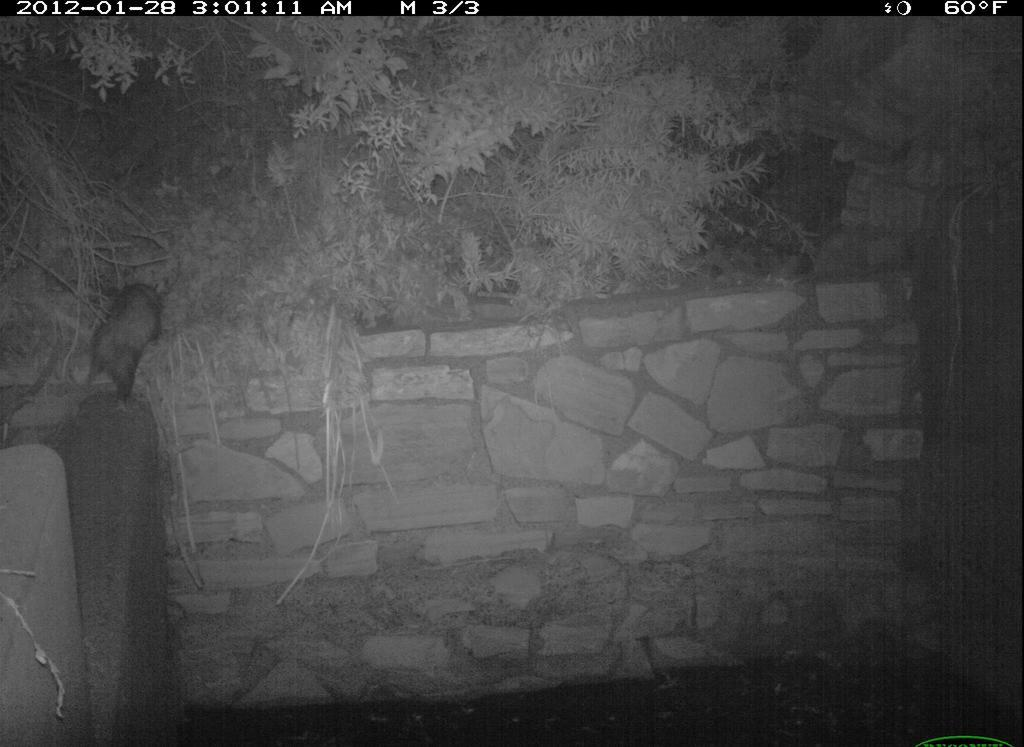opossum: (62, 264, 196, 419)
